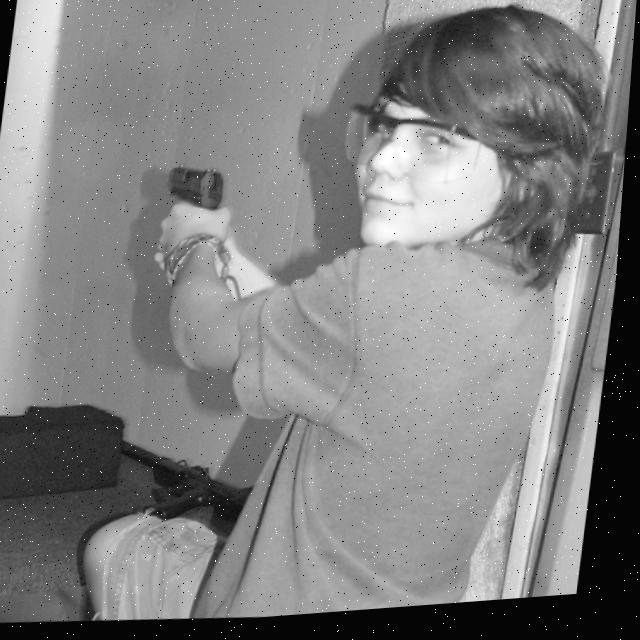pistol: (165, 164, 229, 216)
